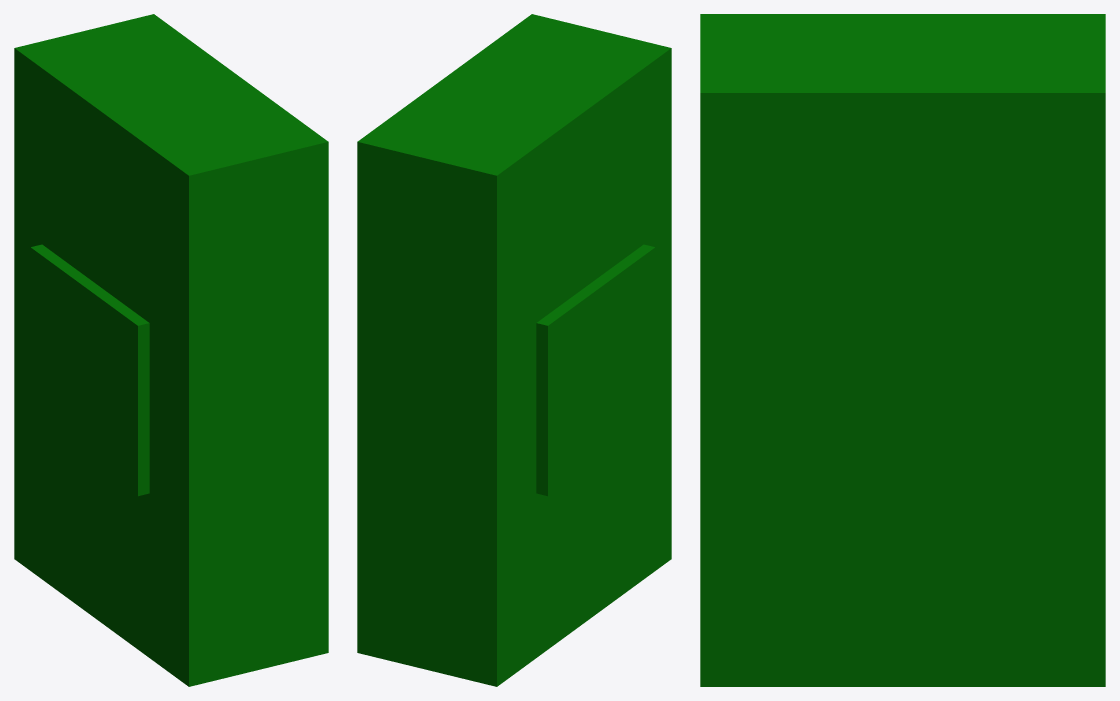
Rendered from Image-1710907700728-2280676376176_CLEANING-GEAR-LOCKER-MD.fbx.
3 renders of one model, left to right at view 1: azimuth 30°, elevation 25°; view 2: azimuth 150°, elevation 25°; view 3: azimuth 270°, elevation 25°, orthographic. The views are drawn at different scales.
Visible parts, largest first — view 1: BOX 1 of SUBEQUIPMENT /CLEANING-GEAR-LOCKER-M/D-PRIM, BOX 2 of SUBEQUIPMENT /CLEANING-GEAR-LOCKER-M/D-PRIM; view 2: BOX 1 of SUBEQUIPMENT /CLEANING-GEAR-LOCKER-M/D-PRIM, BOX 2 of SUBEQUIPMENT /CLEANING-GEAR-LOCKER-M/D-PRIM; view 3: BOX 1 of SUBEQUIPMENT /CLEANING-GEAR-LOCKER-M/D-PRIM.
Part boxes in pixels (left/top/right/bottom): BOX 1 of SUBEQUIPMENT /CLEANING-GEAR-LOCKER-M/D-PRIM: left=14, top=14, right=328, bottom=686; BOX 2 of SUBEQUIPMENT /CLEANING-GEAR-LOCKER-M/D-PRIM: left=30, top=244, right=149, bottom=496; BOX 1 of SUBEQUIPMENT /CLEANING-GEAR-LOCKER-M/D-PRIM: left=357, top=14, right=671, bottom=686; BOX 2 of SUBEQUIPMENT /CLEANING-GEAR-LOCKER-M/D-PRIM: left=536, top=244, right=655, bottom=496; BOX 1 of SUBEQUIPMENT /CLEANING-GEAR-LOCKER-M/D-PRIM: left=700, top=14, right=1105, bottom=686.
Bounding box in the file's own units: 0.675 × 1.3 × 2.1.
